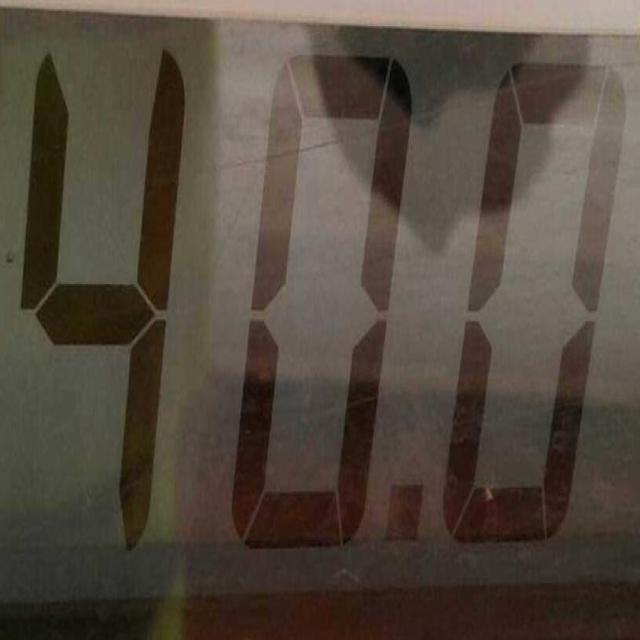.: (379, 468, 432, 559)
0: (234, 46, 412, 548), (450, 51, 624, 540)
4: (17, 41, 203, 568)
